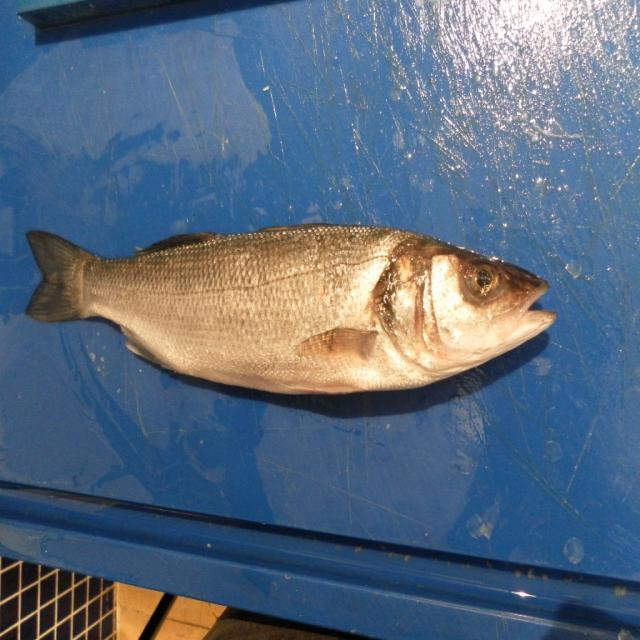Sea-Bass-levrek-: (24, 224, 556, 398)
